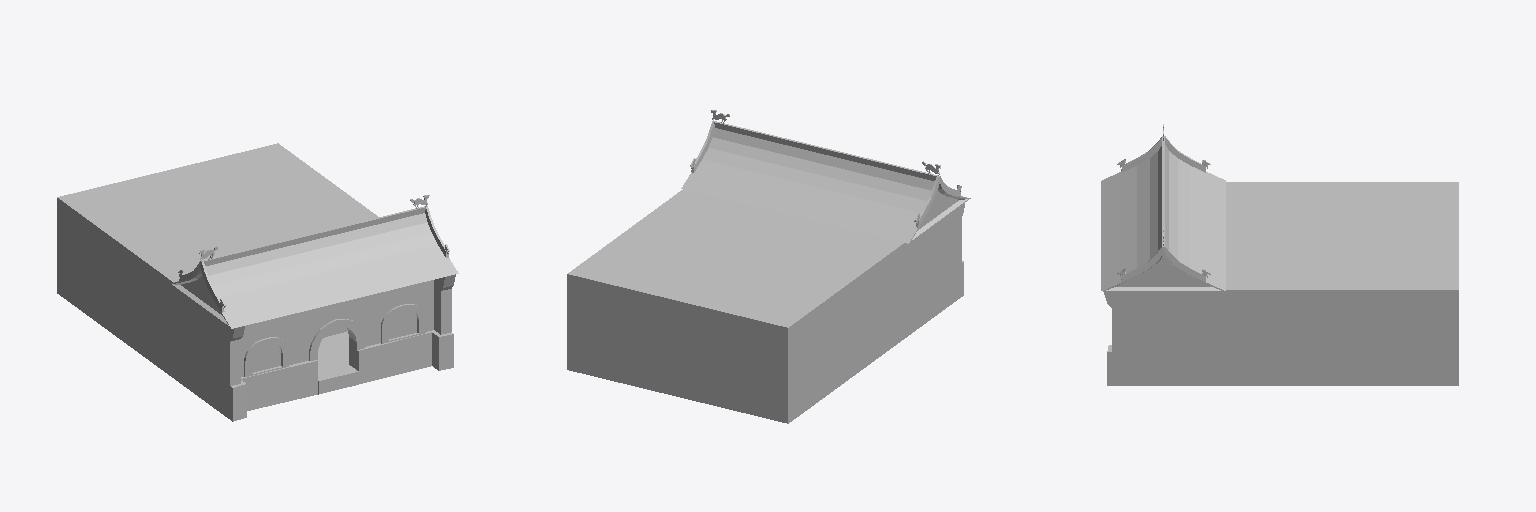
The model's file is res2.obj.
The picture shows the model from 3 angles: view 1: azimuth 30°, elevation 25°; view 2: azimuth 150°, elevation 25°; view 3: azimuth 270°, elevation 25°; orthographic projection.
Visible parts, largest first — view 1: china; view 2: china; view 3: china.
Boxes of the visible parts, x1=… form: china: x1=57, y1=143, x2=458, y2=421; china: x1=567, y1=110, x2=970, y2=423; china: x1=1101, y1=124, x2=1458, y2=385.
Size of the model in its own units: 1 by 0.629 by 1.34.